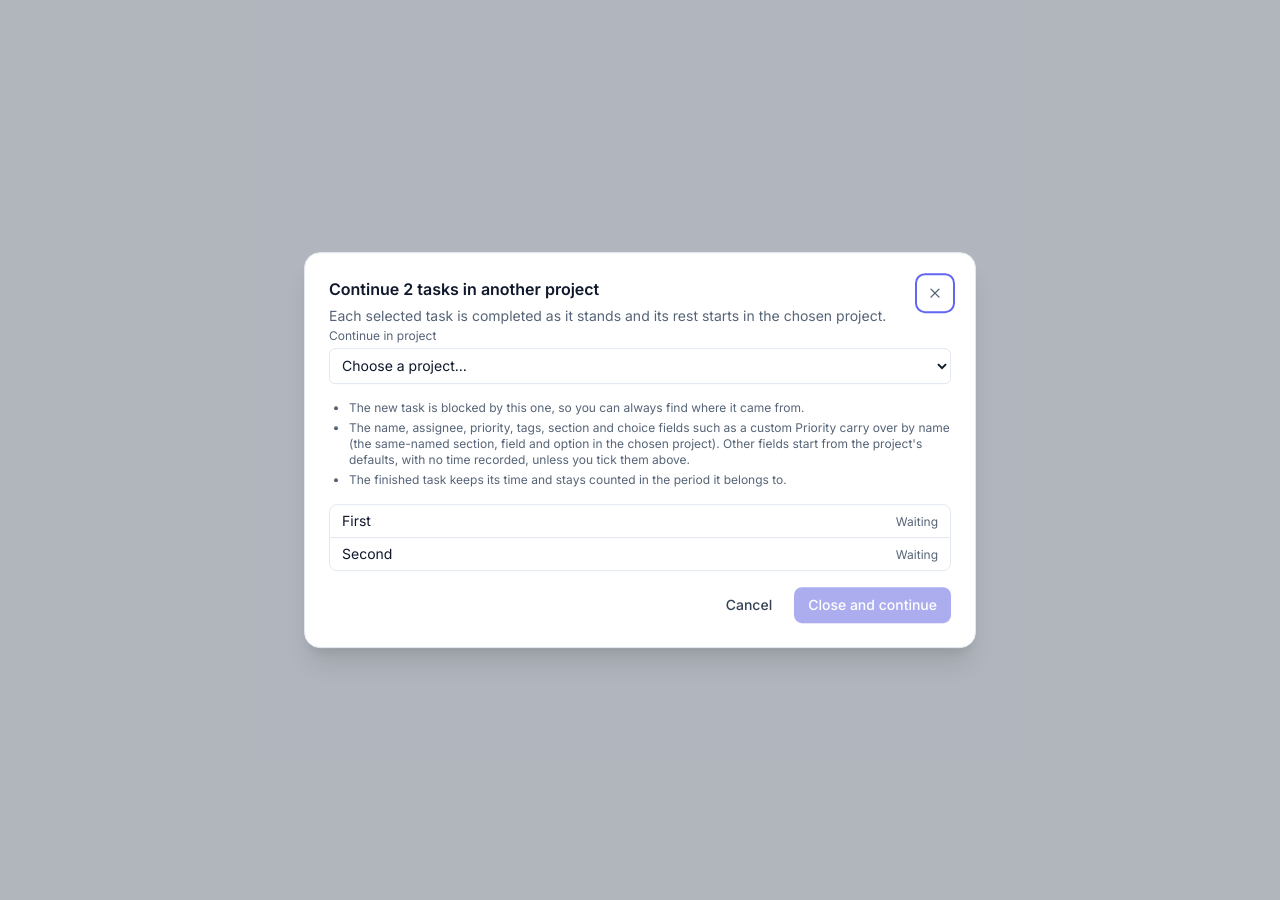
Test case: continue a selection in another project › holds an unknown continuation and retries the same task body and key before later tasks
This screenshot has width=1280, height=900.
Select "Week 2" in the dropdown labelled "Continue in project" at (640, 366), box top-left (329, 348), bottom-right (951, 384)
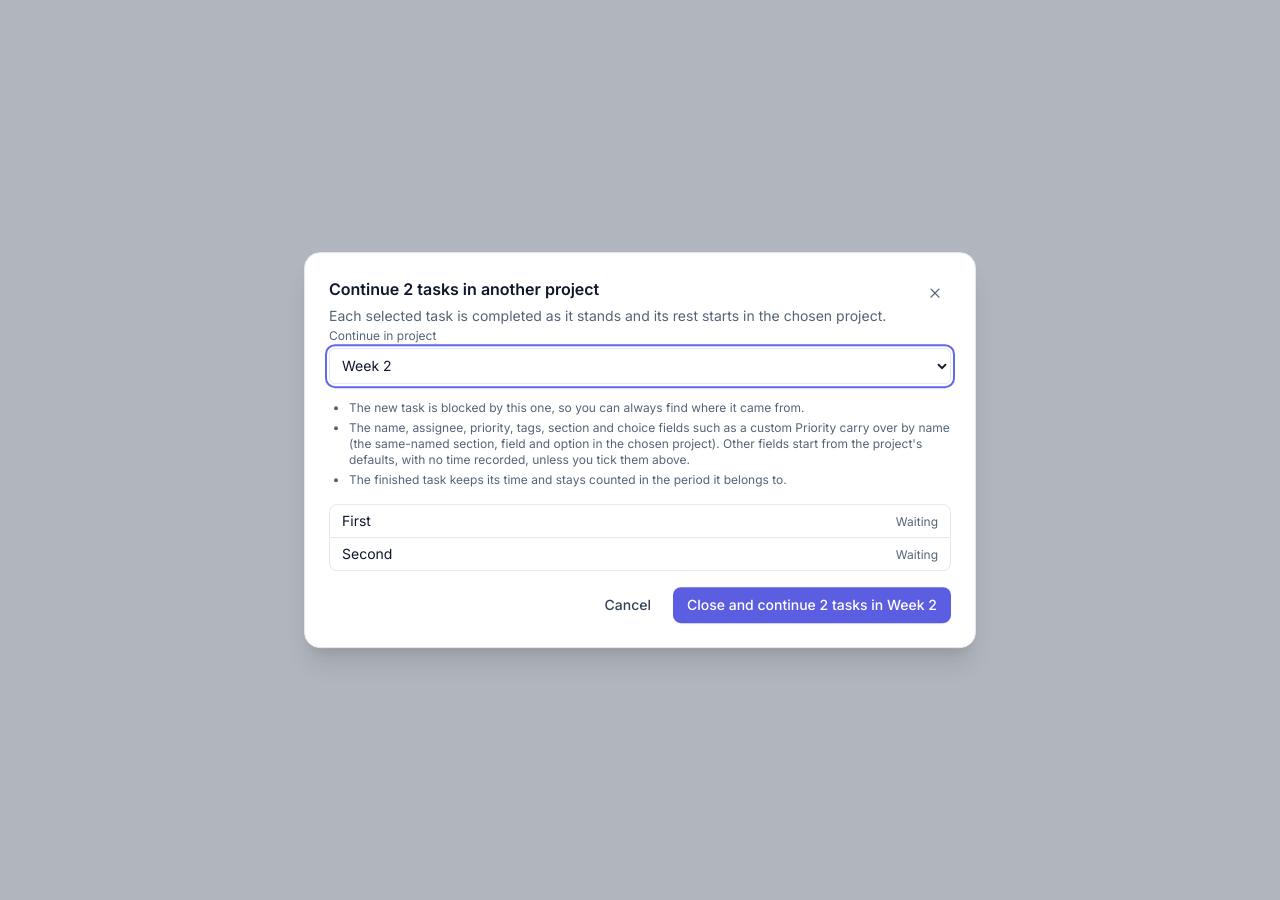
Click the button "Close and continue 2 tasks in Week 2".
click(812, 605)  # box top-left (673, 587), bottom-right (951, 623)
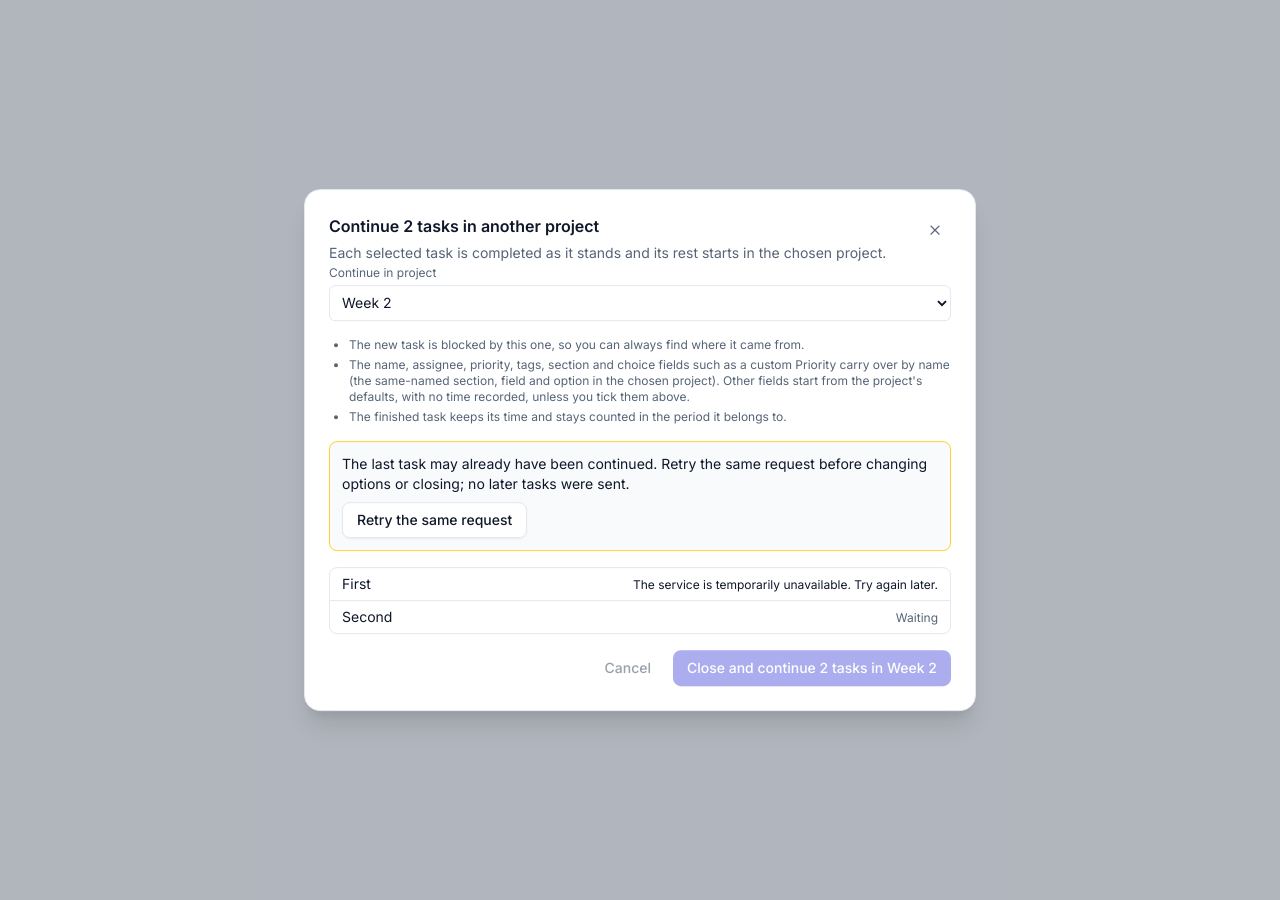
Expected: the dropdown labelled "Continue in project" is disabled, top-left (329, 285), bottom-right (951, 321)
Expected: the button "Cancel" is disabled, top-left (590, 650), bottom-right (665, 686)
Click the button "Retry the same request".
click(435, 520)  # box top-left (342, 502), bottom-right (527, 538)
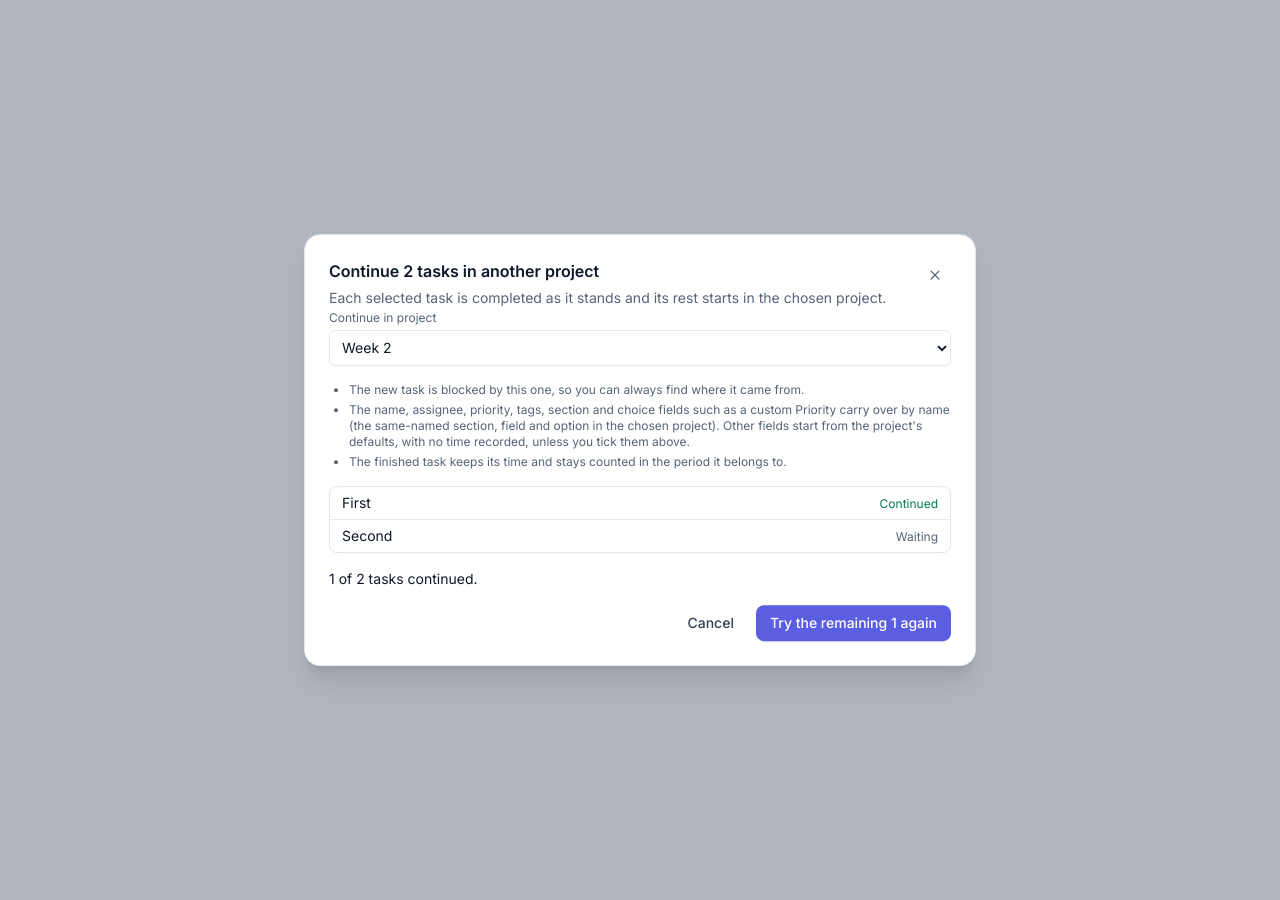
Expected: the text "1 of 2 tasks continued." is shown, top-left (329, 570), bottom-right (478, 587)
Click the button "Try the remaining 1 again".
click(853, 623)  # box top-left (756, 605), bottom-right (951, 641)
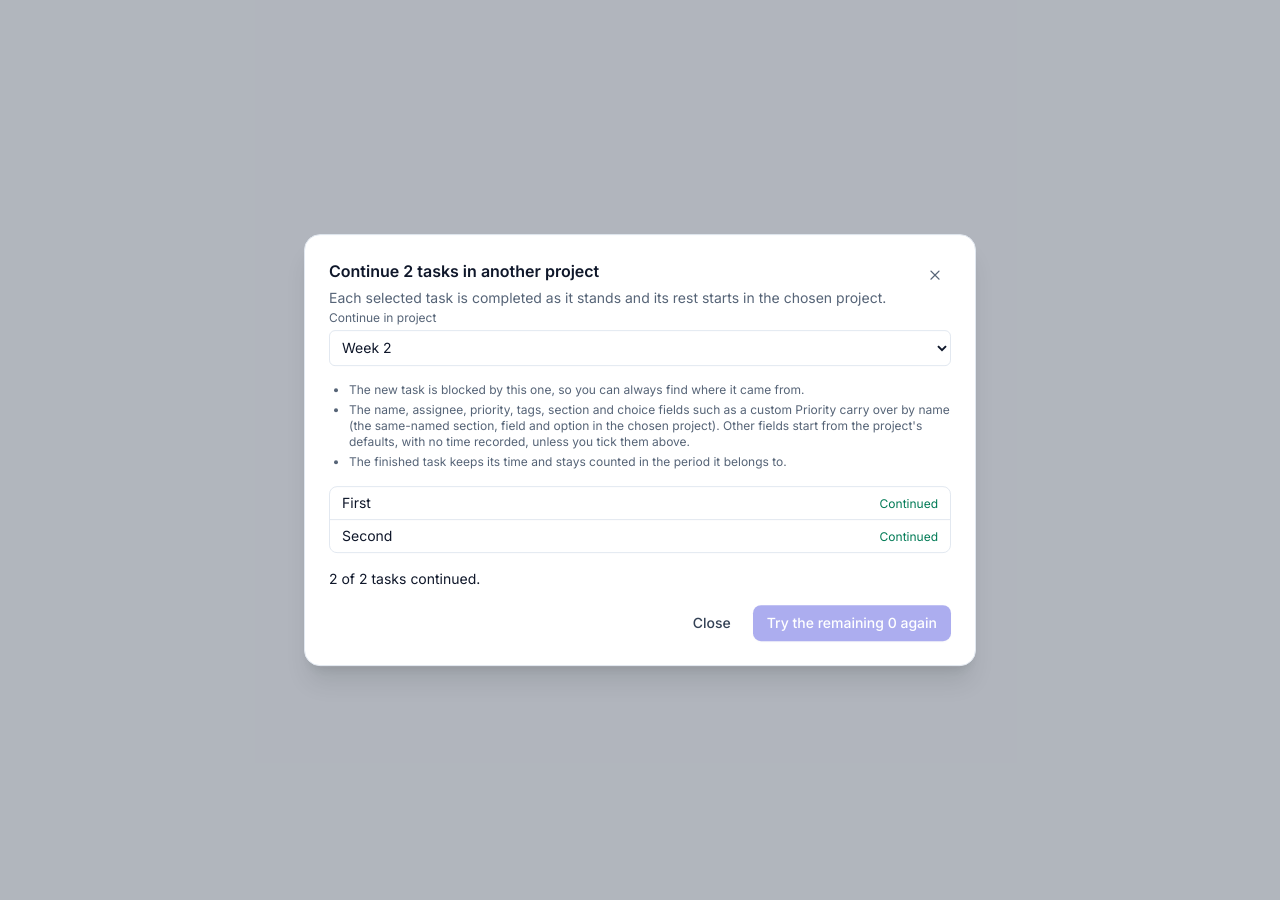
Expected: the text "2 of 2 tasks continued." is shown, top-left (329, 570), bottom-right (480, 587)
